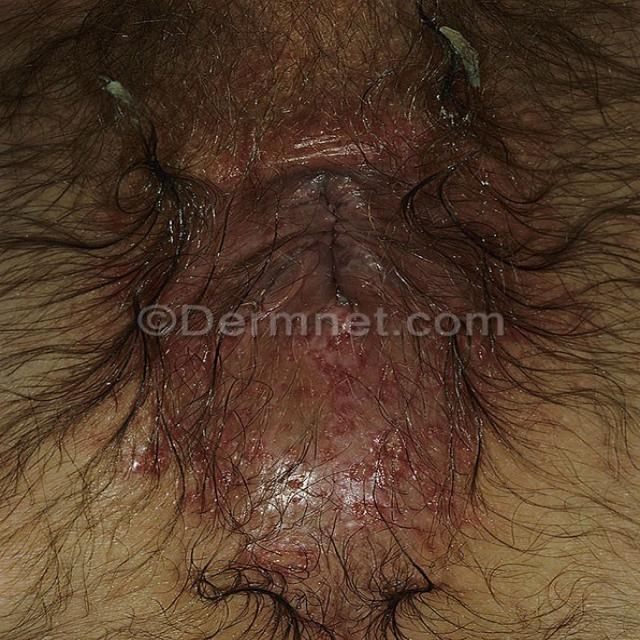Shingles: (174, 177, 476, 550)
